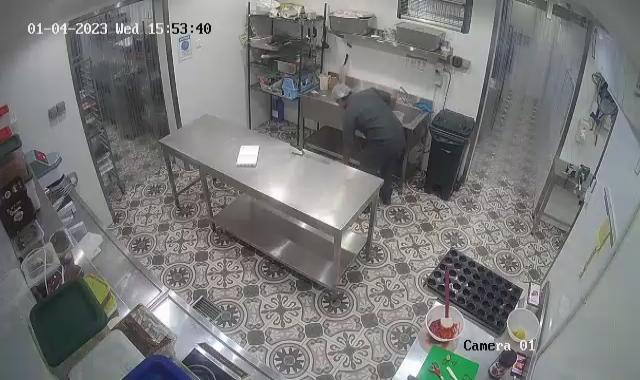hairnet: (328, 84, 354, 100)
